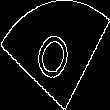O_SW: (31, 21, 79, 88)
